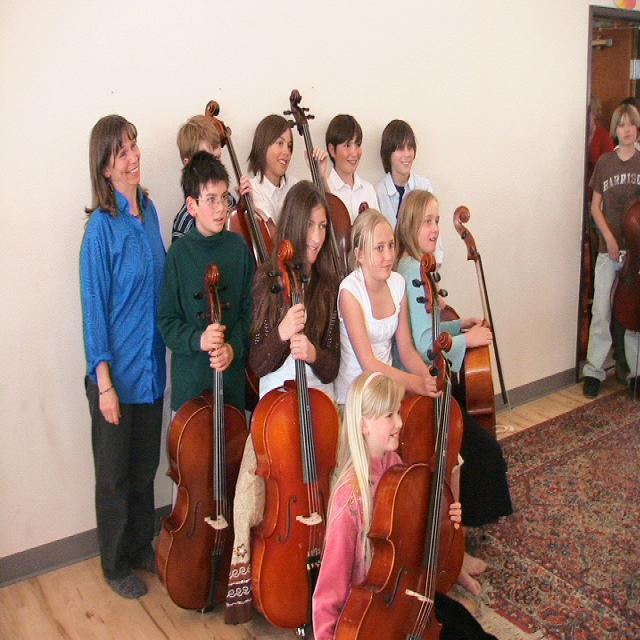cello: (331, 332, 456, 638), (248, 241, 342, 628), (153, 262, 251, 618), (450, 204, 516, 512), (398, 330, 466, 587)
